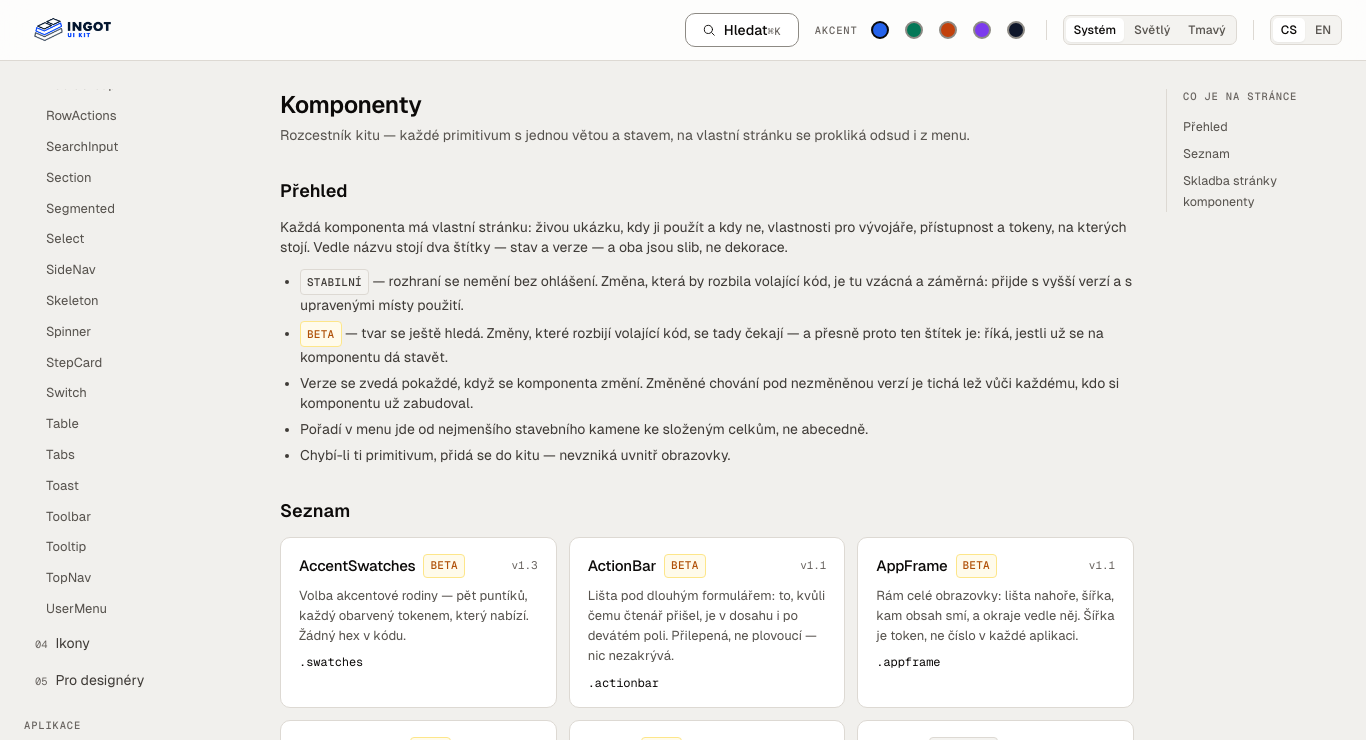
DocsApp › a link in the menu navigates without reloading the page
(page scrolled)
Click the link "Table".
click(62, 424)  # box [46,416,79,431]
(page scrolled)
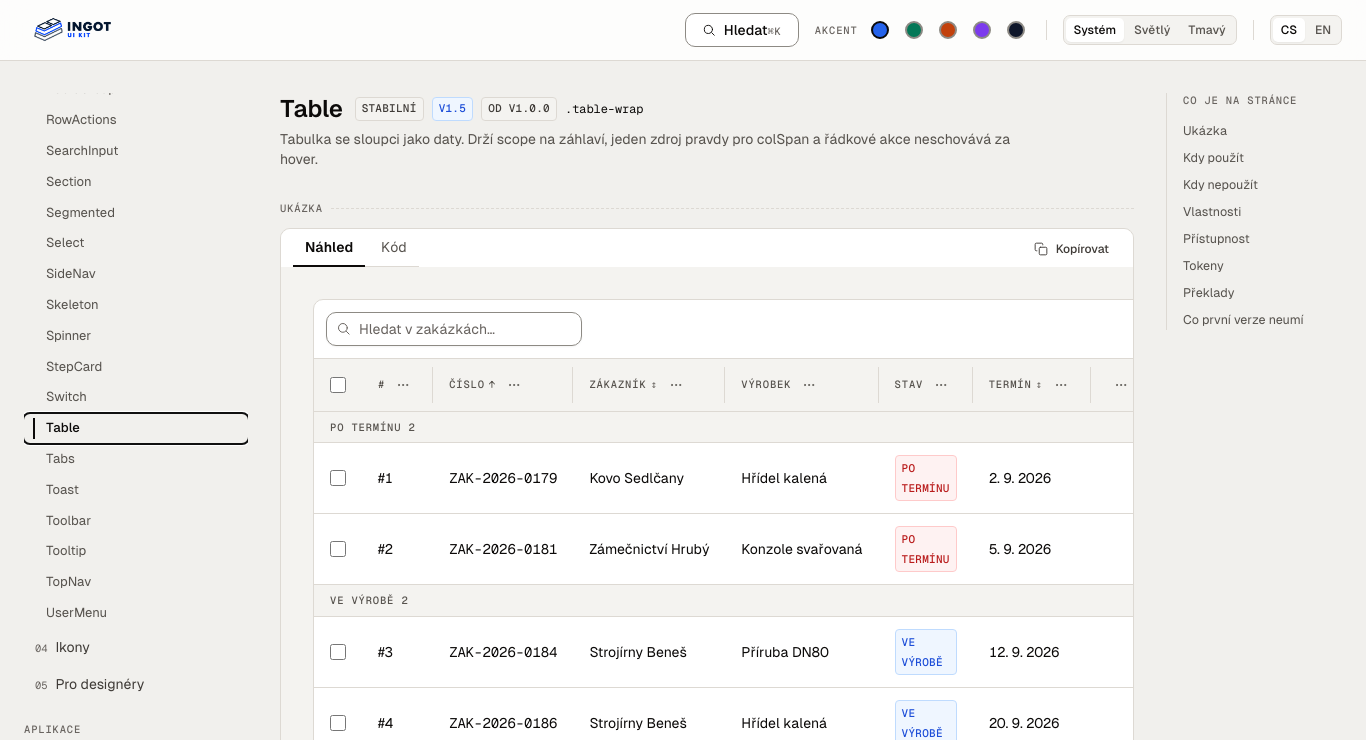
Expected: the heading "Table" is shown, [280,93,343,125]
